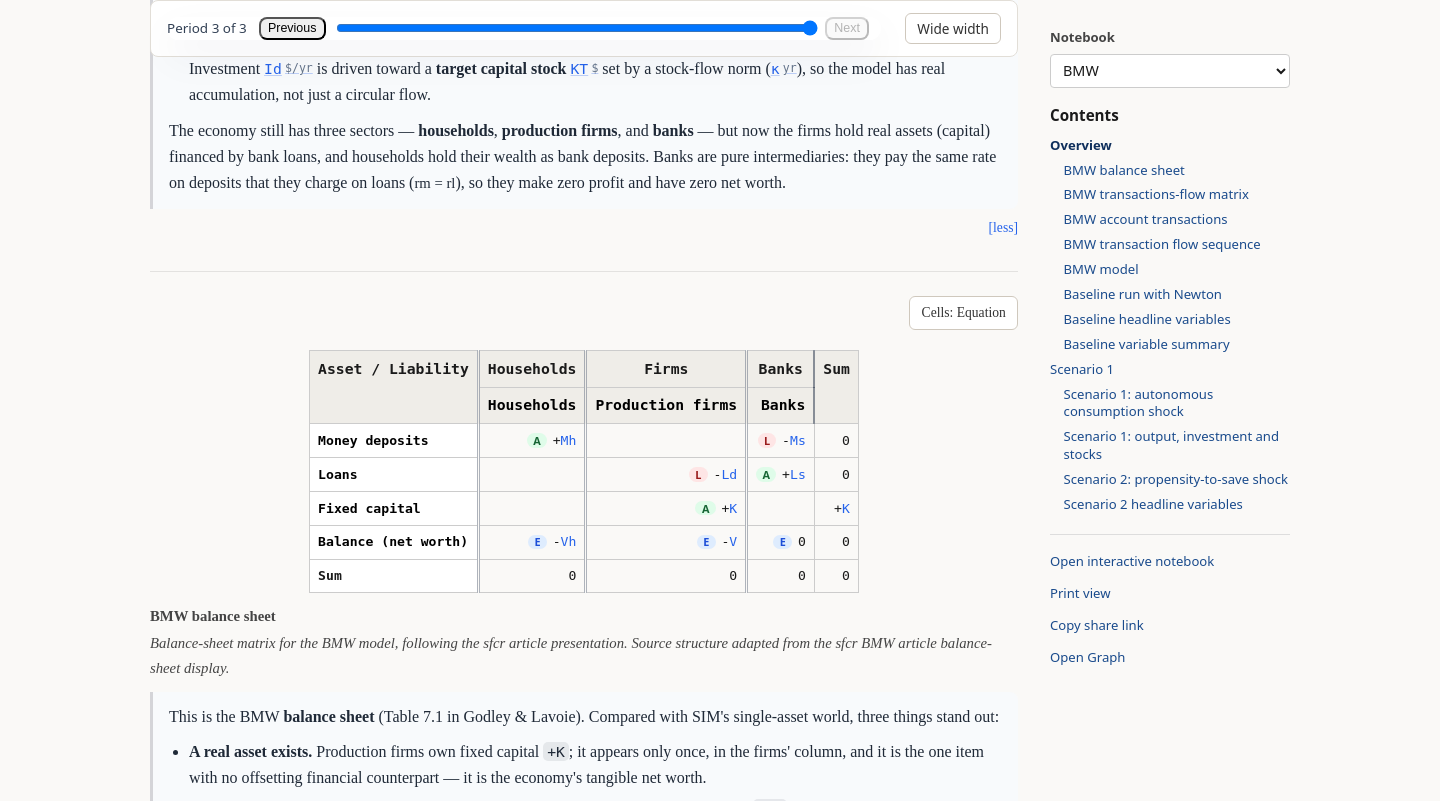
it: PublicationNotebookApp matrix graph popup › opens a floating graph popup when a matrix column heading is clicked
The image size is (1440, 801).
(page scrolled)
Step 1. Click the button titled "Graph column" → (532, 405), box left=488, top=393, right=576, bottom=418
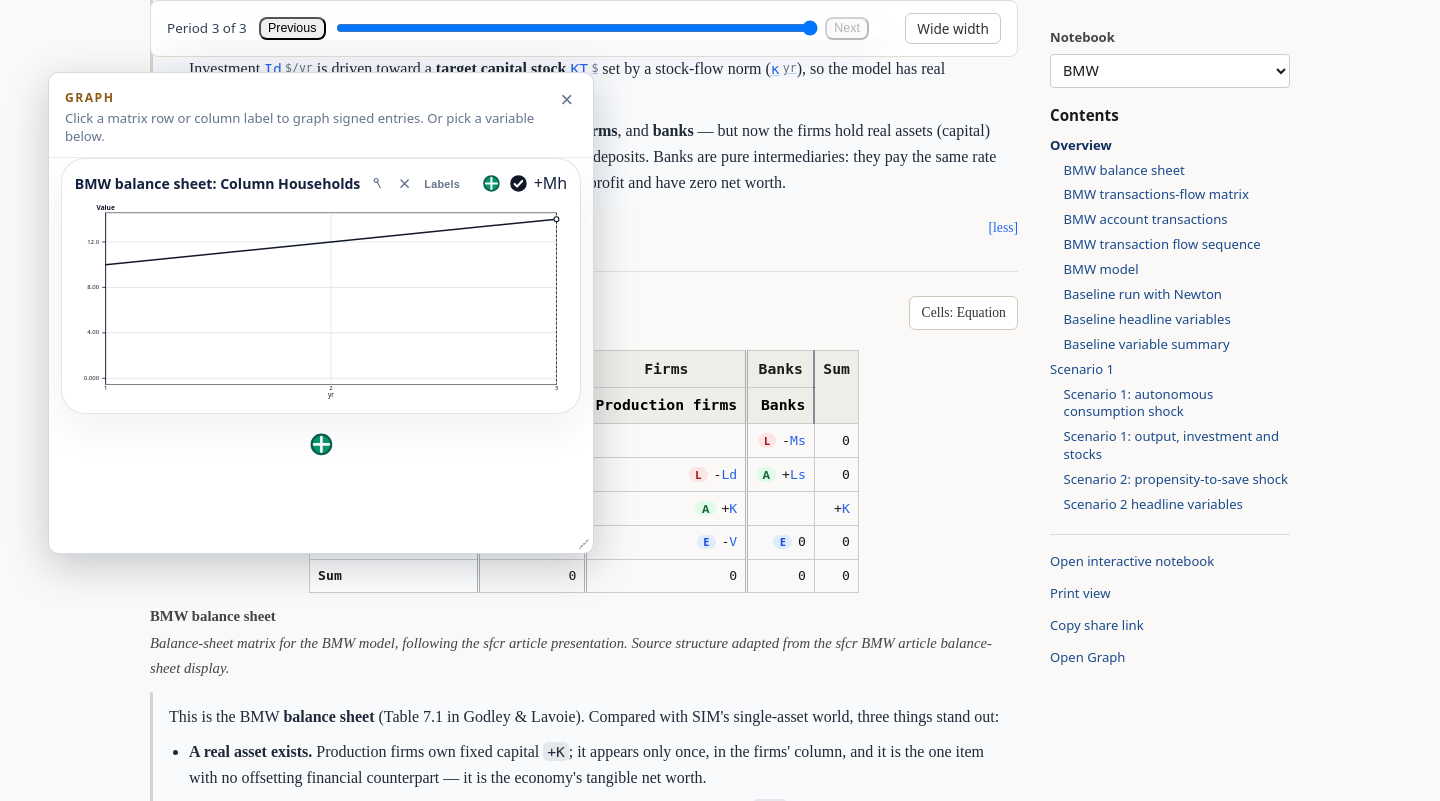
Check: the dialog "Graph" is shown, box left=48, top=72, right=594, bottom=554
Check: the element named "Resize graph panel" is shown, box left=575, top=535, right=593, bottom=553
Check: the text "Click a matrix row or column label to graph signed entries" is shown, box left=65, top=109, right=534, bottom=145
